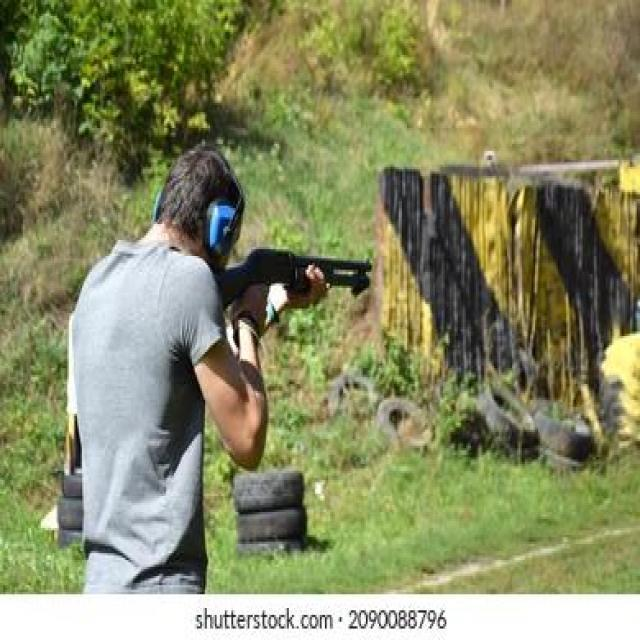weapon: (213, 248, 374, 312)
